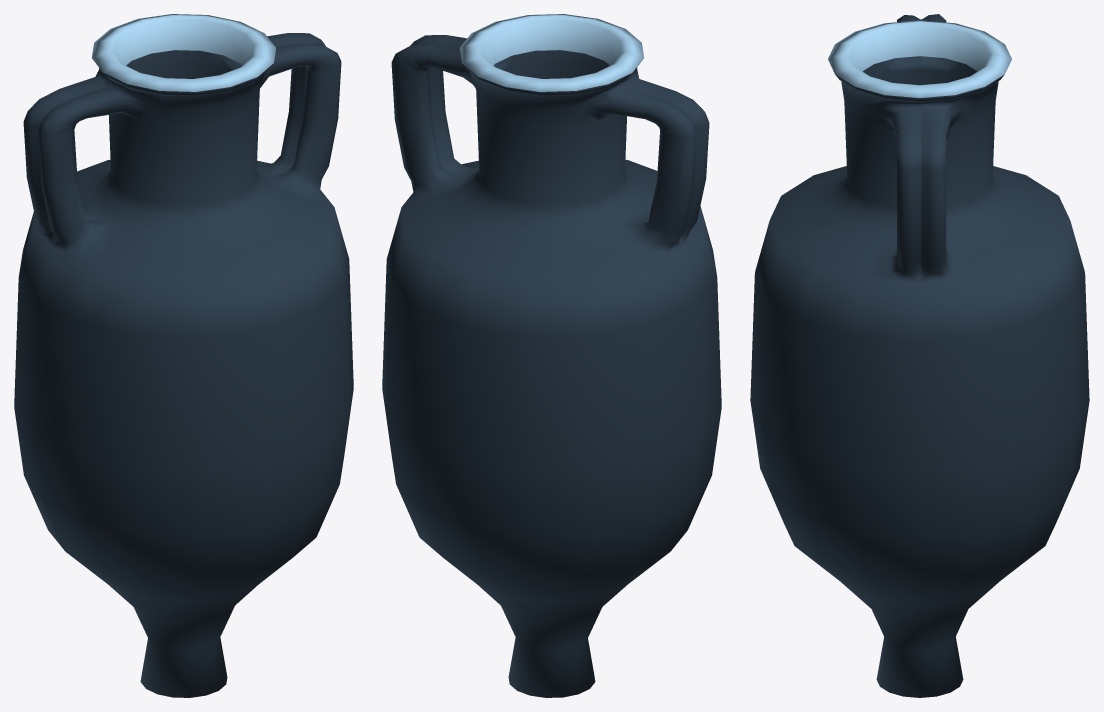
Rendered from SM_Vase1.fbx.
3 views of the same model, side by side, from view 1: azimuth 30°, elevation 25°; view 2: azimuth 150°, elevation 25°; view 3: azimuth 270°, elevation 25° (orthographic).
Parts seen in each view (by area): view 1: SM_Vase1; view 2: SM_Vase1; view 3: SM_Vase1.
Boxes of the visible parts, box(x1,y1,x2,y2) form: SM_Vase1: box(14, 14, 353, 697); SM_Vase1: box(382, 14, 721, 697); SM_Vase1: box(750, 14, 1089, 697).
Bounding box in the file's own units: 0.2412 × 0.4899 × 0.2372.
1 material, 1 textured.
